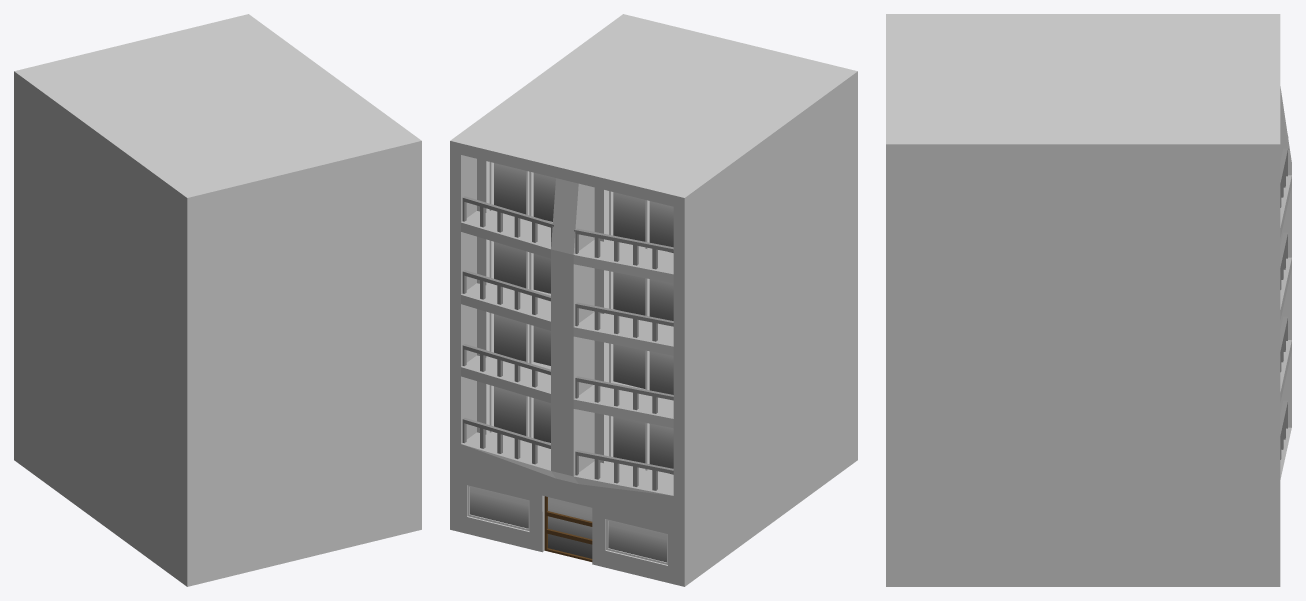
Rendered from Apartments2.fbx.
The picture shows the model from 3 angles, left to right: view 1: azimuth 30°, elevation 25°; view 2: azimuth 150°, elevation 25°; view 3: azimuth 270°, elevation 25°; orthographic projection. The views are drawn at different scales.
Parts seen in each view (by area): view 1: Apartments.002; view 2: Apartments.002; view 3: Apartments.002.
Part boxes in pixels (left/top/right/bottom): Apartments.002: left=14, top=14, right=421, bottom=586; Apartments.002: left=450, top=14, right=857, bottom=586; Apartments.002: left=886, top=14, right=1291, bottom=586.
Size of the model in its own units: 7.37 by 9.69 by 11.67.
Materials: 6 (1 with a texture image).
